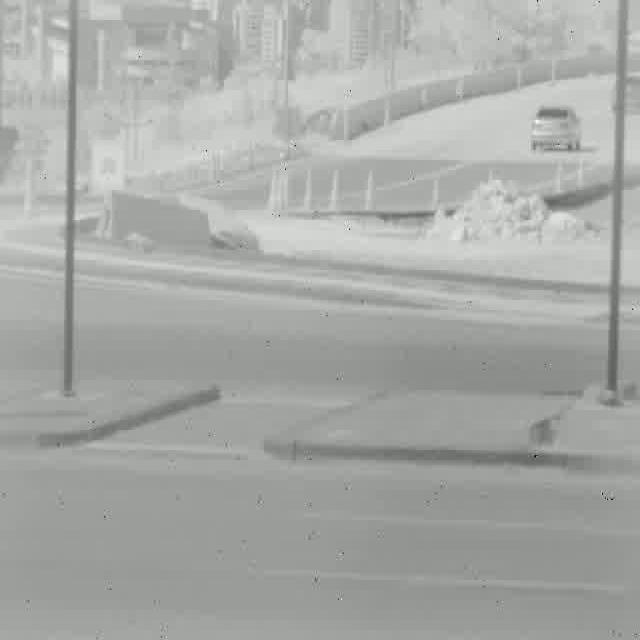Car: (530, 109, 580, 150), (610, 74, 640, 112)
